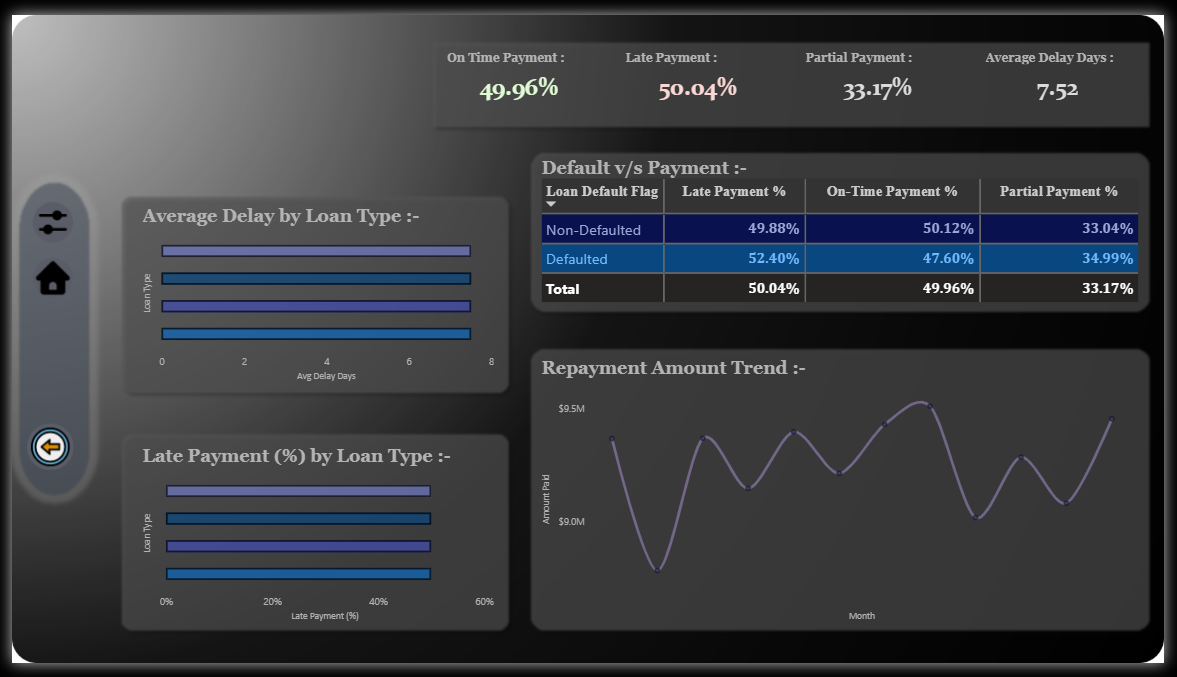

This screenshot's page, from the dashboard's own definition file:
{"tool":"powerbi","page":{"name":"Repayment Behavior Analysis :-","canvas":[1280,720],"ordinal":4},"visuals":[{"type":"card","title":"On Time Payment :","fields":{"Values":["MyMeasures.On-Time Payment %"]},"box":[478.2,40.7,169.2,69.9],"z":0,"group":"g2"},{"type":"group","id":"g1","title":"Visuals ","box":[139.9,159,1118.7,520.9],"z":0},{"type":"barChart","title":"Average Delay by Loan Type :-","fields":{"Category":["Loan_Risk_View.loan_type"],"Y":["MyMeasures.Avg Delay Days"]},"box":[139.9,213.1,400.1,200.1],"z":0,"group":"g1"},{"type":"actionButton","title":"Previous_Page","box":[0,429.4,84.6,99.2],"z":0,"group":"g3"},{"type":"group","id":"g2","title":"All KPIs","box":[478.2,40.6,768.5,70],"z":1000},{"type":"card","title":"Late Payment :","fields":{"Values":["MyMeasures.Late Payment %"]},"box":[677.1,40.6,170,70],"z":1000,"group":"g2"},{"type":"actionButton","title":"Home_Page","box":[9,255.4,74.8,74.8],"z":1000,"group":"g3"},{"type":"barChart","title":"Late Payment (%) by Loan Type :-","fields":{"Category":["Loan_Risk_View.loan_type"],"Y":["MyMeasures.Late Payment %"]},"box":[139.9,478.2,400.1,200.1],"z":1000,"group":"g1"},{"type":"card","title":"Partial Payment :","fields":{"Values":["MyMeasures.Partial Payment %"]},"box":[876.9,40.6,170,70],"z":2000,"group":"g2"},{"type":"group","id":"g3","title":"Buttons ","box":[0,193.6,84.6,335.1],"z":2000},{"type":"actionButton","title":"Filter_Page","box":[9,193.6,74.8,74.8],"z":2000,"group":"g3"},{"type":"lineChart","title":"Repayment Amount Trend :-","fields":{"Category":["tab_repayments.due_date.Variation.Date Hierarchy.Month"],"Y":["Sum(tab_repayments.amount_paid)"]},"box":[583.9,380.6,663.6,299.3],"z":2000,"group":"g1"},{"type":"card","title":"Average Delay Days :","fields":{"Values":["MyMeasures.Avg Delay Days"]},"box":[1076.7,40.6,170,70],"z":3000,"group":"g2"},{"type":"pivotTable","title":"Default v/s Payment :-","fields":{"Rows":["tab_loans.Loan Default Flag"],"Values":["MyMeasures.Late Payment %","MyMeasures.On-Time Payment %","MyMeasures.Partial Payment %"]},"box":[583.9,159,674.7,183.3],"z":3000,"group":"g1"}]}

Visuals, with their boxes in screenshot pixels (x1, y1, x2, y2), scaled from the page's 1280x720 canvas onto the 1177x677 screenshot:
"On Time Payment :" card: 440,38,595,104
"Visuals " group: 129,150,1157,639
"Average Delay by Loan Type :-" barChart: 129,200,497,389
"Previous_Page" actionButton: 0,404,78,497
"All KPIs" group: 440,38,1146,104
"Late Payment :" card: 623,38,779,104
"Home_Page" actionButton: 8,240,77,310
"Late Payment (%) by Loan Type :-" barChart: 129,450,497,638
"Partial Payment :" card: 806,38,963,104
"Buttons " group: 0,182,78,497
"Filter_Page" actionButton: 8,182,77,252
"Repayment Amount Trend :-" lineChart: 537,358,1147,639
"Average Delay Days :" card: 990,38,1146,104
"Default v/s Payment :-" pivotTable: 537,150,1157,322
